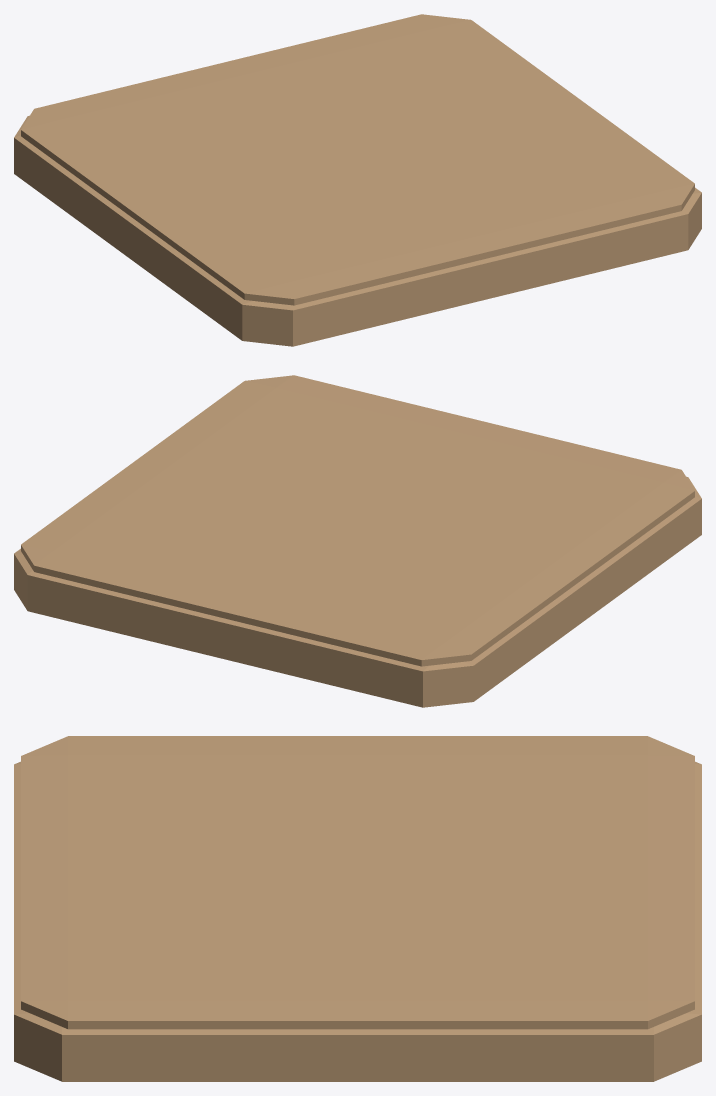
Rendered from b21_floor_timber_2x2m.glb.
3 views of the same model, one above another, from view 1: azimuth 30°, elevation 25°; view 2: azimuth 150°, elevation 25°; view 3: azimuth 270°, elevation 25° (orthographic). The views are drawn at different scales.
Parts seen in each view (by area): view 1: b21_floor_timber_2x2m; view 2: b21_floor_timber_2x2m; view 3: b21_floor_timber_2x2m.
Boxes of the visible parts, bbox=[...] form: b21_floor_timber_2x2m: bbox=[14, 14, 701, 346]; b21_floor_timber_2x2m: bbox=[14, 375, 701, 707]; b21_floor_timber_2x2m: bbox=[14, 736, 701, 1081].
Size of the model in its own units: 2 by 0.2 by 2.
